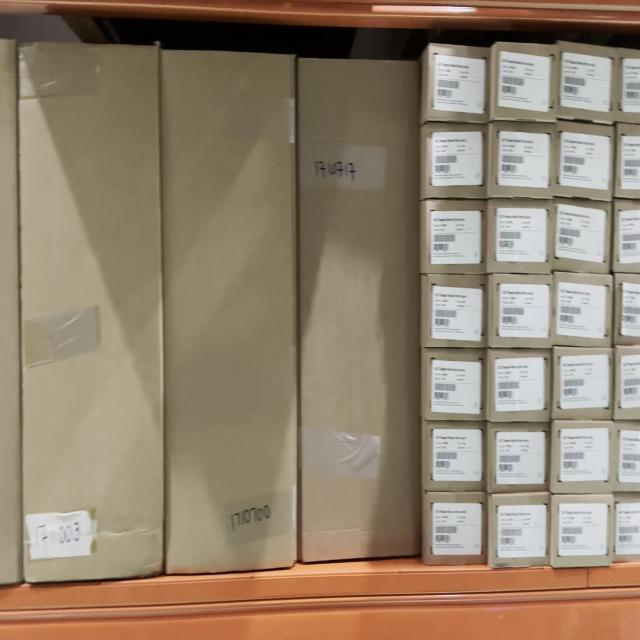box: (21, 50, 161, 577), (162, 53, 295, 574), (299, 56, 421, 563), (492, 200, 552, 273), (493, 124, 552, 193), (499, 44, 554, 118), (428, 201, 484, 271), (434, 45, 487, 118), (493, 278, 552, 343), (554, 498, 614, 560), (561, 48, 612, 119), (431, 494, 483, 562), (557, 201, 611, 265), (431, 280, 484, 344), (433, 127, 484, 193), (494, 354, 550, 414), (556, 426, 612, 486), (558, 130, 612, 192), (559, 278, 609, 344), (495, 499, 548, 561), (430, 352, 482, 415), (559, 353, 611, 416), (431, 428, 484, 488), (495, 430, 546, 490)
